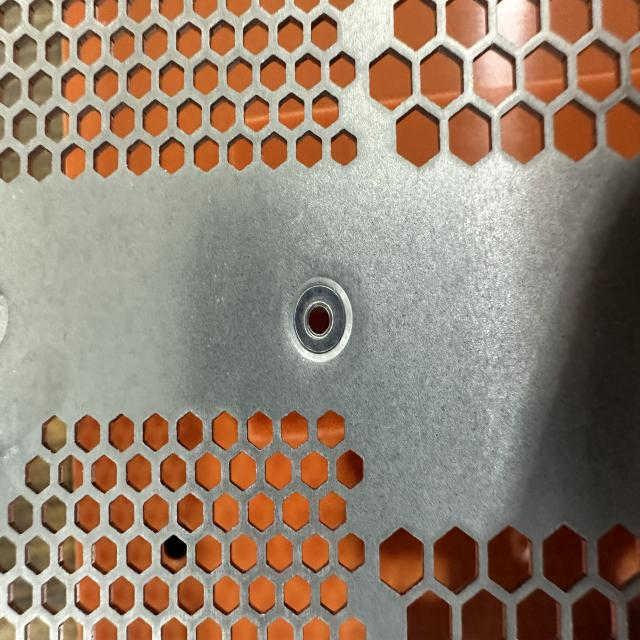Missing screw: (276, 270, 363, 373)
